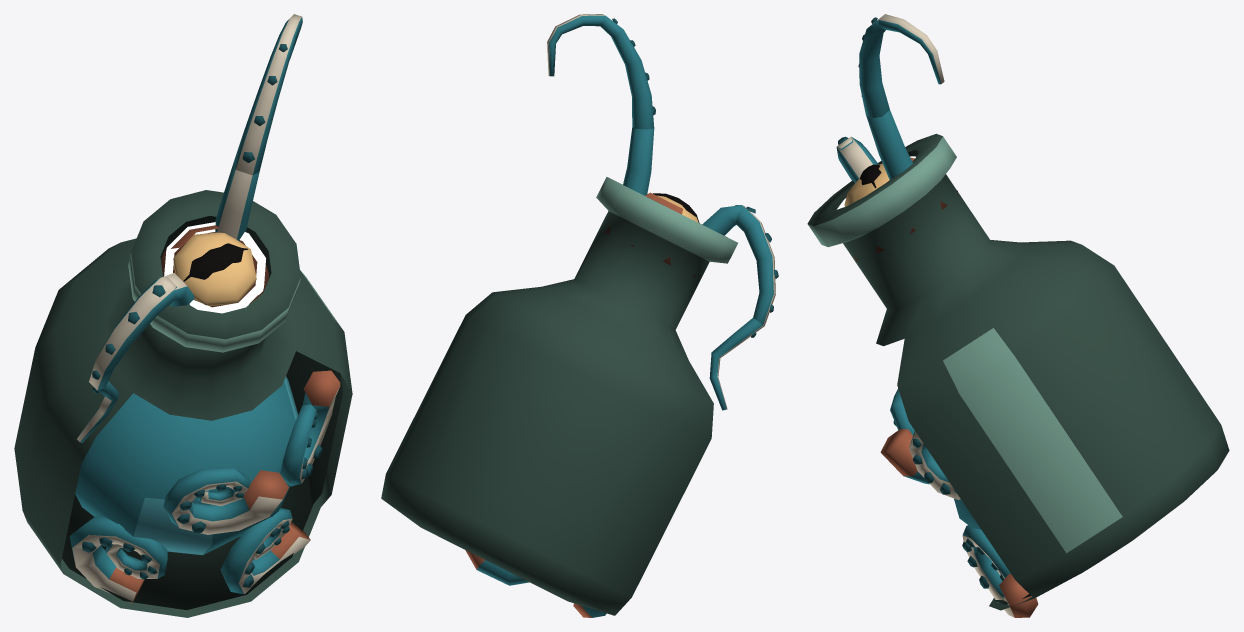
Rendered from octopus-bottle-dweller.glb.
3 renders of one model, left to right at view 1: azimuth 30°, elevation 25°; view 2: azimuth 150°, elevation 25°; view 3: azimuth 270°, elevation 25°, orthographic. The views are drawn at different scales.
Visible parts, largest first — view 1: body, pulse_mantle, blink_eye_r, wave_arm1_0, wave_arm0_0, wave_arm0_1; view 2: body, wave_arm0_0, wave_arm1_0, wave_arm0_1, wave_arm1_1; view 3: body, wave_arm1_0, wave_arm1_1, blink_eye_r.
Boxes of the visible parts, x1,y1,x2,y2 form: body: (14,163,352,617); pulse_mantle: (75,376,298,555); blink_eye_r: (173,232,256,306); wave_arm1_0: (233,32,295,175); wave_arm0_0: (89,277,176,390); wave_arm0_1: (77,381,119,442); body: (381,127,741,617); wave_arm0_0: (735,205,778,325); wave_arm1_0: (600,15,655,129); wave_arm0_1: (709,318,764,410); wave_arm1_1: (547,14,605,76); body: (807,110,1229,617); wave_arm1_0: (858,17,889,118); wave_arm1_1: (878,14,944,84); blink_eye_r: (844,163,889,206).
Bounding box in the file's own units: 0.4021 × 0.7305 × 0.4731.
